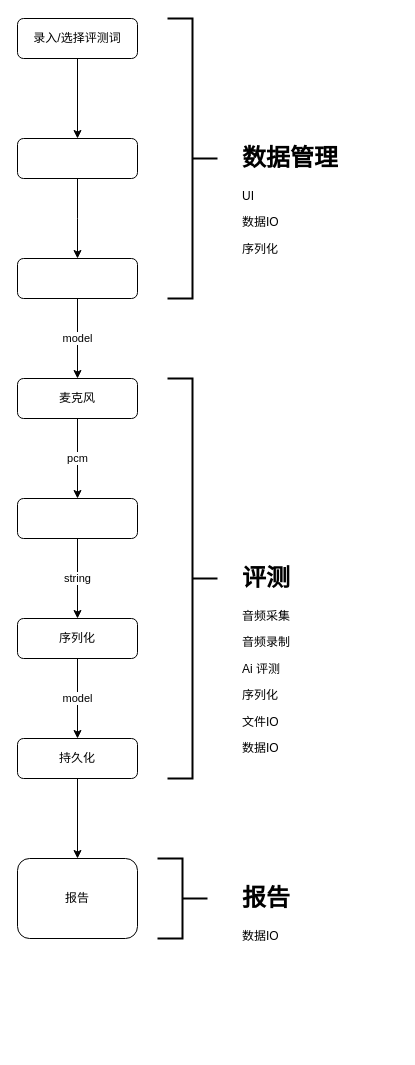
Image size: 415x1065. Some labels were removed from this diagram. Here are the shapes that lost their labels. From the top down, the centre of each, then its label:
point 77,158: 选择 Ai 能力
point 77,278: 开始
point 77,518: 评测
